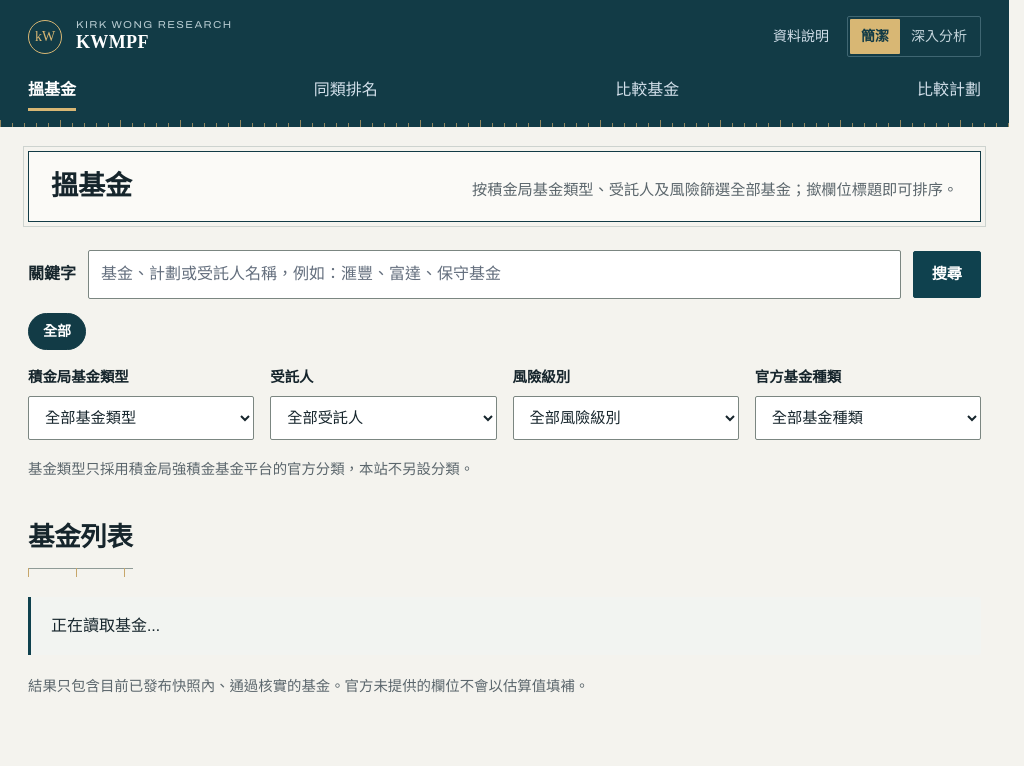
Test case: fund browse page › states the true number of matches when the list is capped
Select "Equity Fund" in the dropdown labelled "官方基金種類" at point(868, 418), box [755,396,981,440]
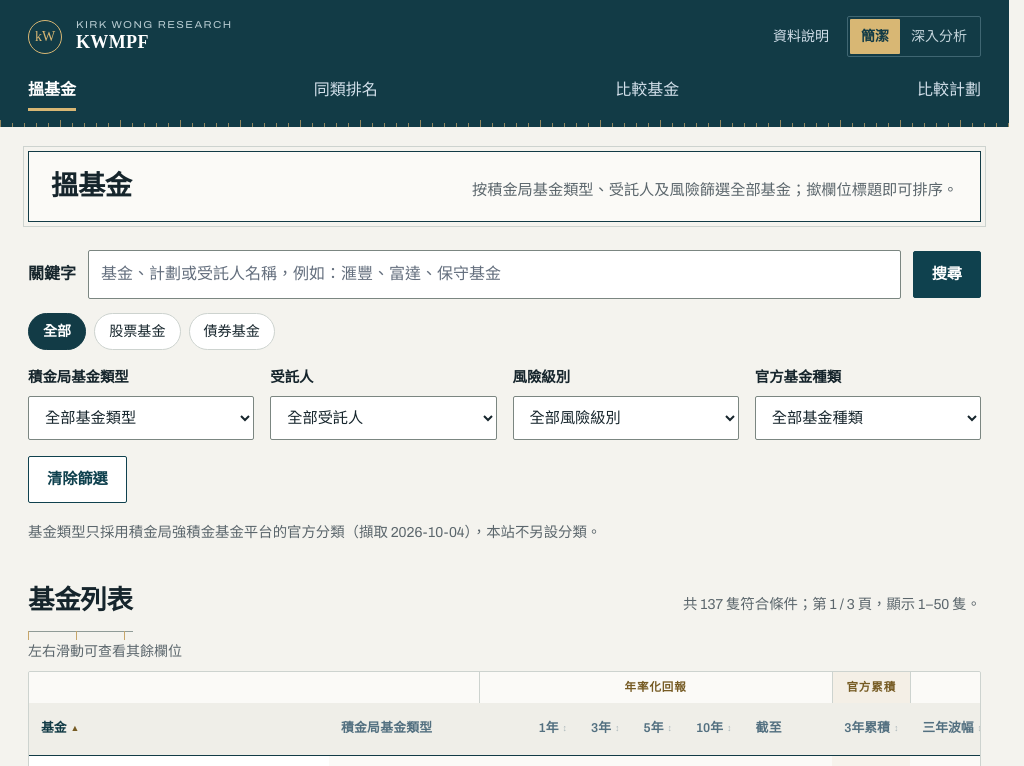
Now the text "共 137 隻符合條件；第 1 / 3 頁，顯示 1–50 隻。" is shown, box [683,593,981,617]
